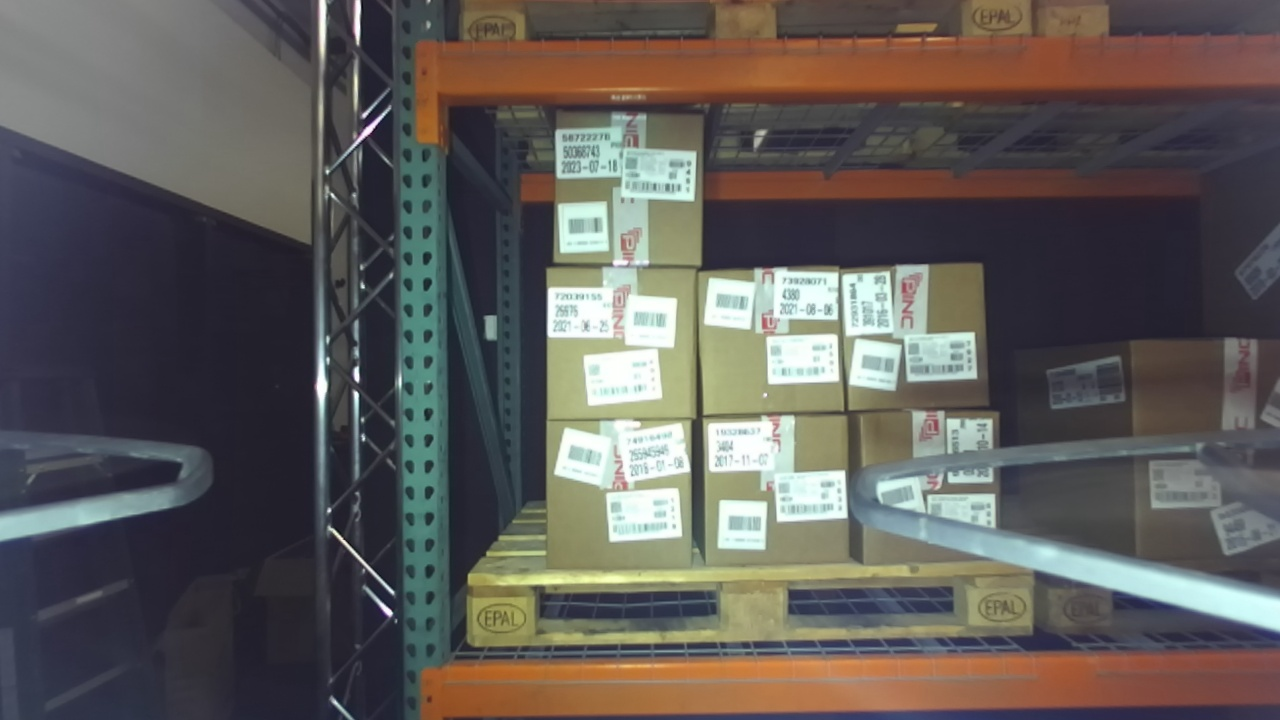box: (1109, 320, 1280, 601), (528, 250, 714, 433), (684, 405, 879, 575), (541, 93, 715, 283), (828, 398, 1019, 561), (685, 258, 862, 425), (830, 252, 1001, 423), (537, 409, 718, 570)
